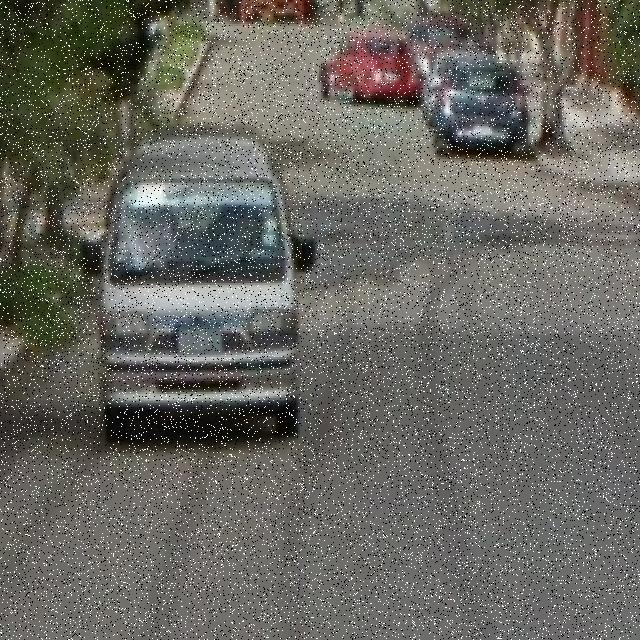cars: (84, 124, 320, 457), (450, 47, 540, 174), (312, 12, 424, 109)
